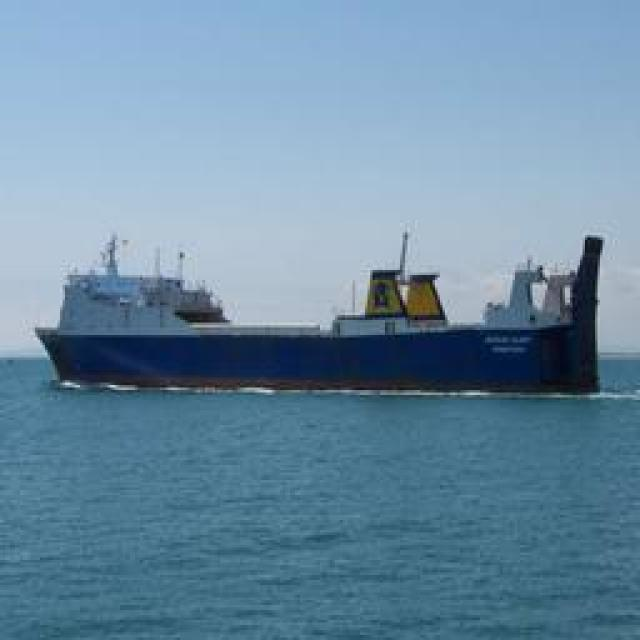CIV_Ship: (25, 220, 610, 398)
